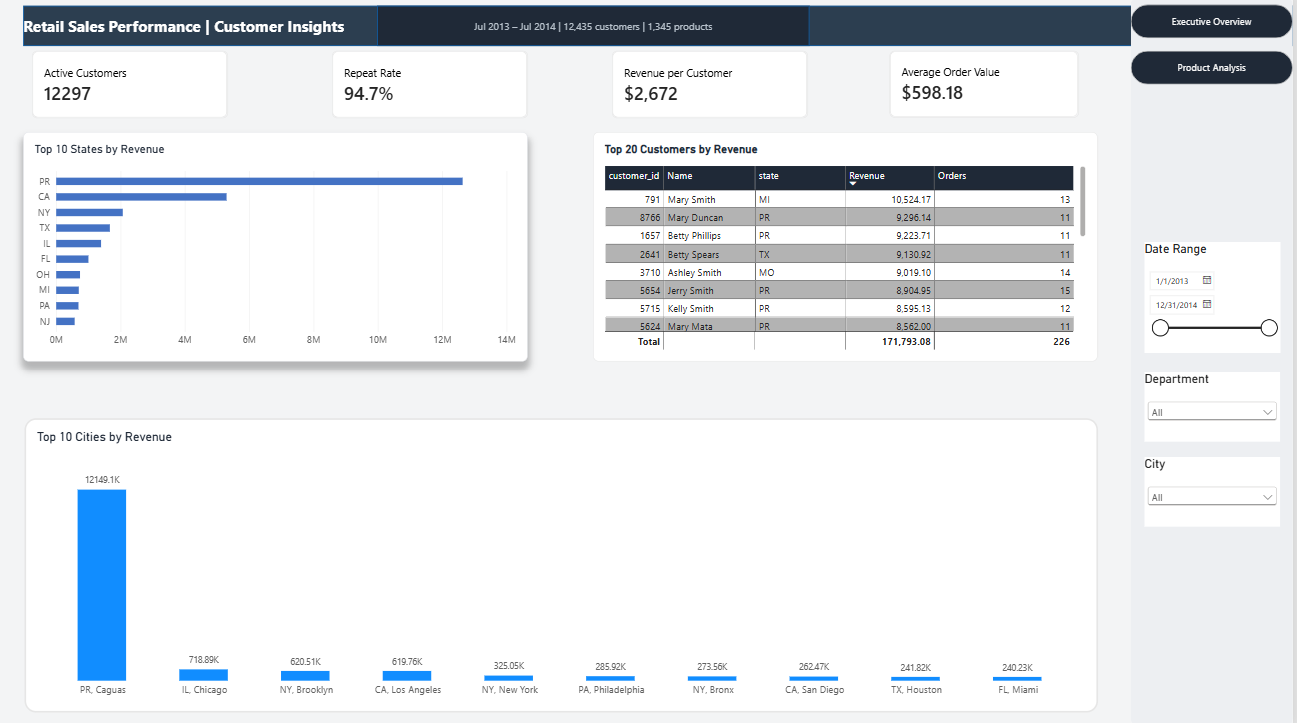

What the dashboard file says about the page in this screenshot:
{"tool":"powerbi","page":{"name":"Customer Insights","canvas":[1920,1080],"ordinal":2},"visuals":[{"type":"shape","box":[39.8,12.7,1880.2,59.7],"z":0},{"type":"shape","box":[562.8,12.7,640.6,59.7],"z":1},{"type":"cardVisual","fields":{"Data":["Measure.Active Customers"]},"box":[52.5,79.6,290,100],"z":2},{"type":"cardVisual","fields":{"Data":["Measure.Revenue per Customer"]},"box":[910.3,79.6,290,100],"z":3},{"type":"cardVisual","fields":{"Data":["Measure.Repeat Rate"]},"box":[495.8,79.6,290,100],"z":4},{"type":"cardVisual","fields":{"Data":["Measure.Average Order Value"]},"box":[1322.9,79.6,280.5,99.5],"z":5},{"type":"clusteredBarChart","title":"Top 10 States by Revenue","fields":{"Category":["bi dim_customer.state"],"Y":["Measure.Total Revenue"]},"box":[39.1,199.7,747.2,339.6],"z":6},{"type":"tableEx","title":"Top 20 Customers by Revenue","fields":{"Values":["bi dim_customer.customer_id","bi dim_customer.customer_name","bi dim_customer.state","Measure.Total Revenue","Measure.Total Orders"]},"box":[883,199.7,747.2,339.6],"z":7},{"type":"columnChart","title":"Top 10 Cities by Revenue","fields":{"Category":["bi dim_customer.city_state"],"Y":["Measure.Total Revenue"]},"box":[40,624,1590,436],"z":9},{"type":"shape","box":[1680,0,240,1080.4],"z":10},{"type":"slicer","title":"Date Range","fields":{"Values":["bi dim_date.date_key"]},"box":[1699.3,363.6,200.9,162.9],"z":11},{"type":"slicer","title":"Department","fields":{"Values":["bi dim_product.department_name"]},"box":[1699.3,555.4,200.9,103.2],"z":12},{"type":"slicer","title":"Department","fields":{"Values":["bi dim_customer.city"]},"box":[1700,682,200.9,103.2],"z":13},{"type":"pageNavigator","box":[1680,12,240,50],"z":14},{"type":"pageNavigator","box":[1680,80,240,50],"z":15}]}

Visuals, with their boxes in screenshot pixels (x1, y1, x2, y2), scaled from the page's 1920x1080 canvas onto the 1297x723 screenshot:
shape: 27 9 1296 48
shape: 380 9 813 48
cardVisual - Measure.Active Customers: 35 53 231 120
cardVisual - Measure.Revenue per Customer: 615 53 811 120
cardVisual - Measure.Repeat Rate: 335 53 531 120
cardVisual - Measure.Average Order Value: 894 53 1083 120
"Top 10 States by Revenue" clusteredBarChart: 26 134 531 361
"Top 20 Customers by Revenue" tableEx: 596 134 1101 361
"Top 10 Cities by Revenue" columnChart: 27 418 1101 710
shape: 1135 0 1296 722
"Date Range" slicer: 1148 243 1284 352
"Department" slicer: 1148 372 1284 441
"Department" slicer: 1148 457 1284 526
pageNavigator: 1135 8 1296 42
pageNavigator: 1135 54 1296 87
